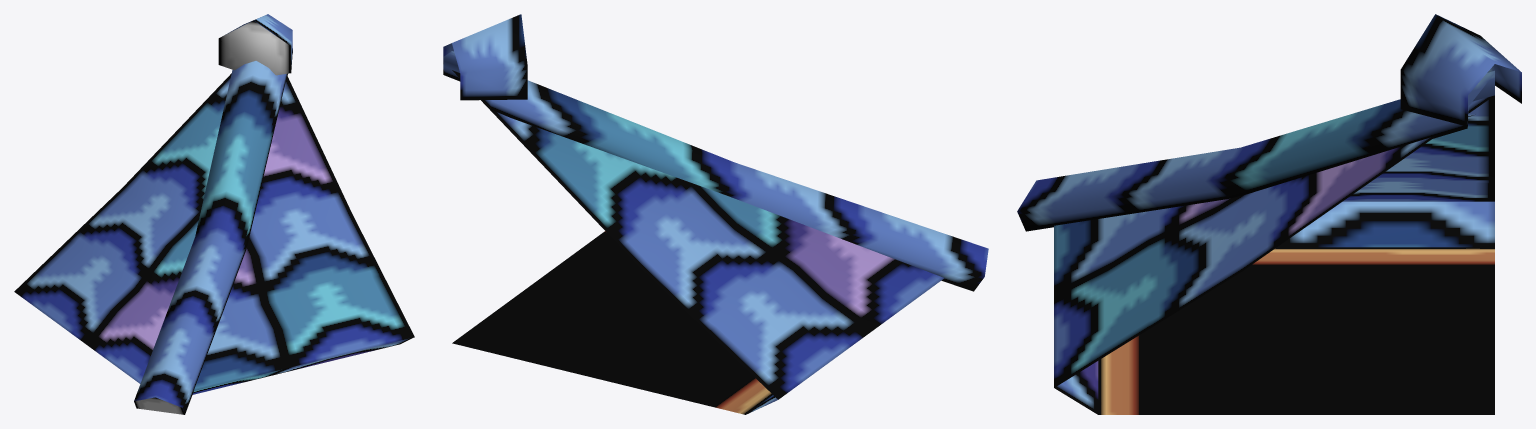
File: arch_roof_cornerHalf_teal.FBX
3 views of the same model, side by side, from view 1: azimuth 30°, elevation 25°; view 2: azimuth 150°, elevation 25°; view 3: azimuth 270°, elevation 25° (orthographic). The views are drawn at different scales.
Visible parts, largest first — view 1: arch_roof_cornerHalf_teal; view 2: arch_roof_cornerHalf_teal; view 3: arch_roof_cornerHalf_teal.
Boxes of the visible parts, x1,y1,x2,y2 form: arch_roof_cornerHalf_teal: [14, 14, 414, 414]; arch_roof_cornerHalf_teal: [443, 14, 988, 414]; arch_roof_cornerHalf_teal: [1017, 14, 1521, 414].
Size of the model in its own units: 2.86 by 2.35 by 2.86.
1 material, 1 textured.
